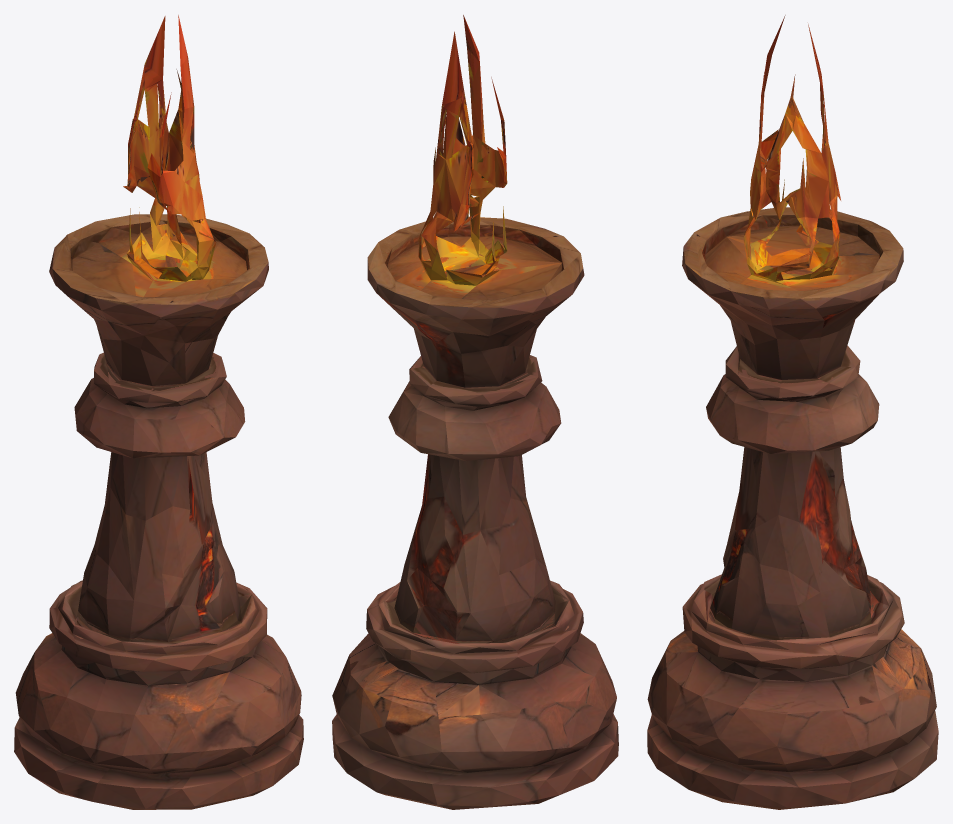
The model's file is torre.fbx.
3 views of the same model, side by side, from view 1: azimuth 30°, elevation 25°; view 2: azimuth 150°, elevation 25°; view 3: azimuth 270°, elevation 25° (orthographic).
Parts seen in each view (by area): view 1: Uma_peça_de_torre_í_0517125603_texture; view 2: Uma_peça_de_torre_í_0517125603_texture; view 3: Uma_peça_de_torre_í_0517125603_texture.
Boxes of the visible parts, bbox=[...] form: Uma_peça_de_torre_í_0517125603_texture: bbox=[14, 15, 303, 809]; Uma_peça_de_torre_í_0517125603_texture: bbox=[332, 15, 618, 809]; Uma_peça_de_torre_í_0517125603_texture: bbox=[647, 15, 938, 809].
Bounding box in the file's own units: 69.88 × 196 × 69.52.
